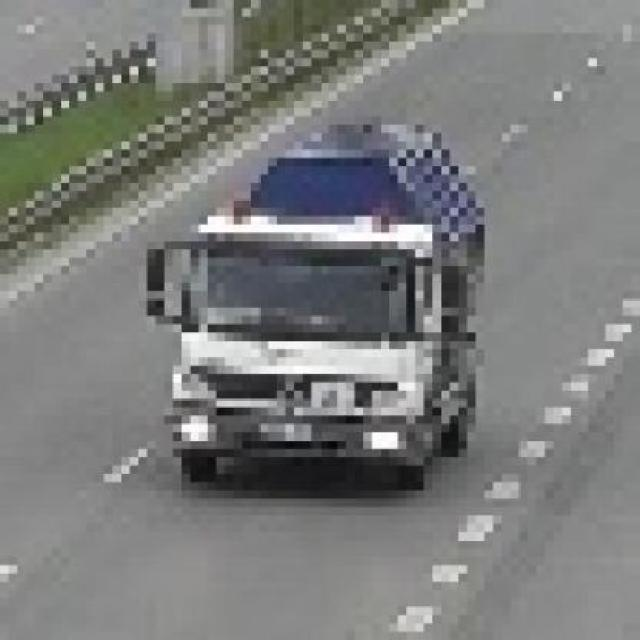truck: (140, 101, 486, 484)
